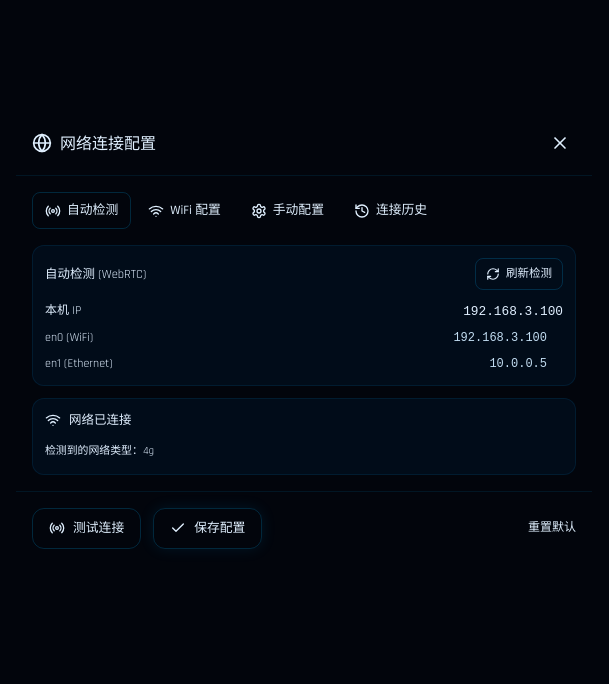
Scenario: NetworkConfig › 连接历史 Tab › 切换到连接历史 Tab 应显示内容
What coordinates should you click on to do the following:
click the button "连接历史"
I would click on:
 (390, 211)
Its box is x1=341 y1=192 x2=440 y2=229.
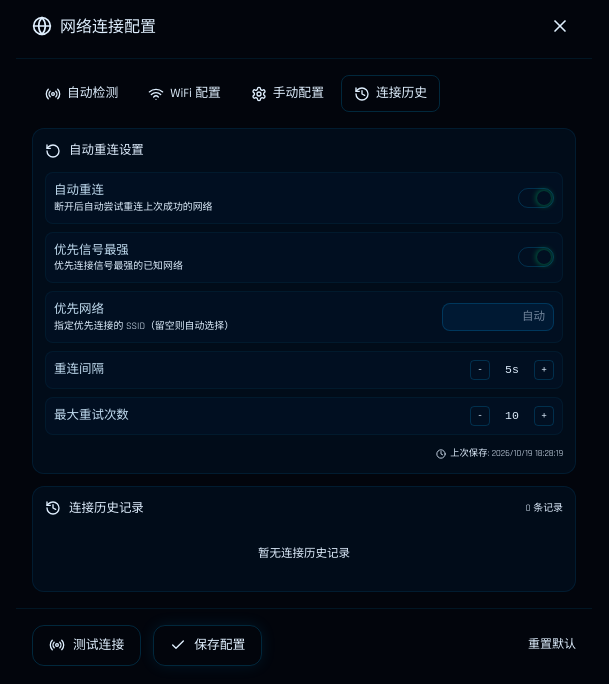
Expected: the text "自动重连设置" is shown, x1=69 y1=141 x2=144 y2=160
Expected: the text "连接历史记录" is shown, x1=69 y1=499 x2=144 y2=517
